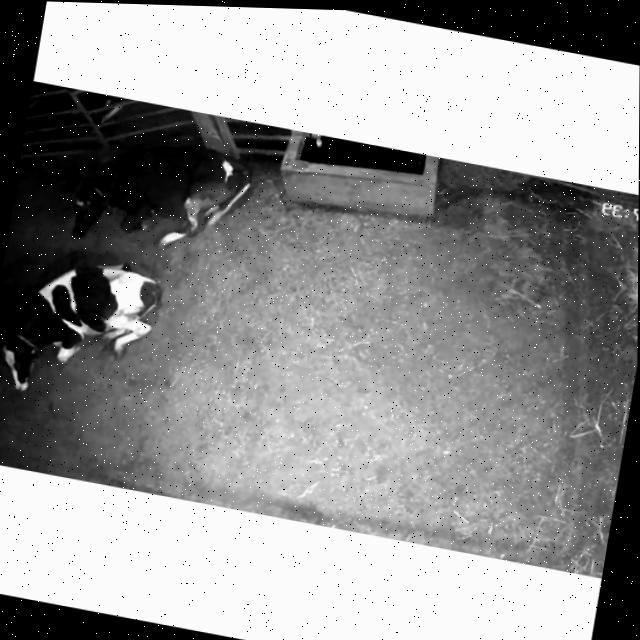lay: (0, 227, 190, 425), (47, 109, 272, 270)
